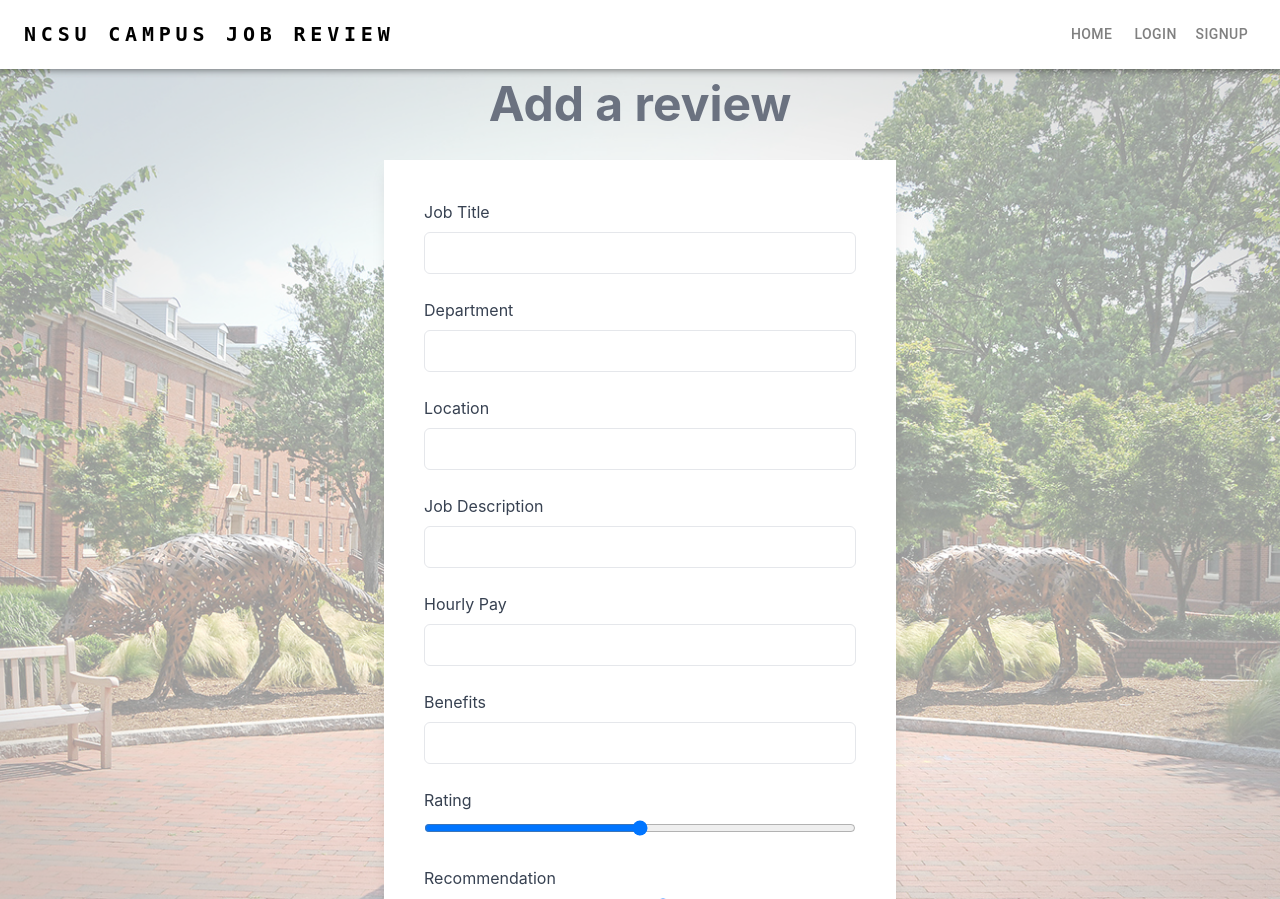
it: AddReview Component › renders and interacts with the Rating slider
The image size is (1280, 899).
Simulate changing the slider value
Set the slider labelled "Rating" to "4" at (744, 828), box top-left (424, 820), bottom-right (856, 836)
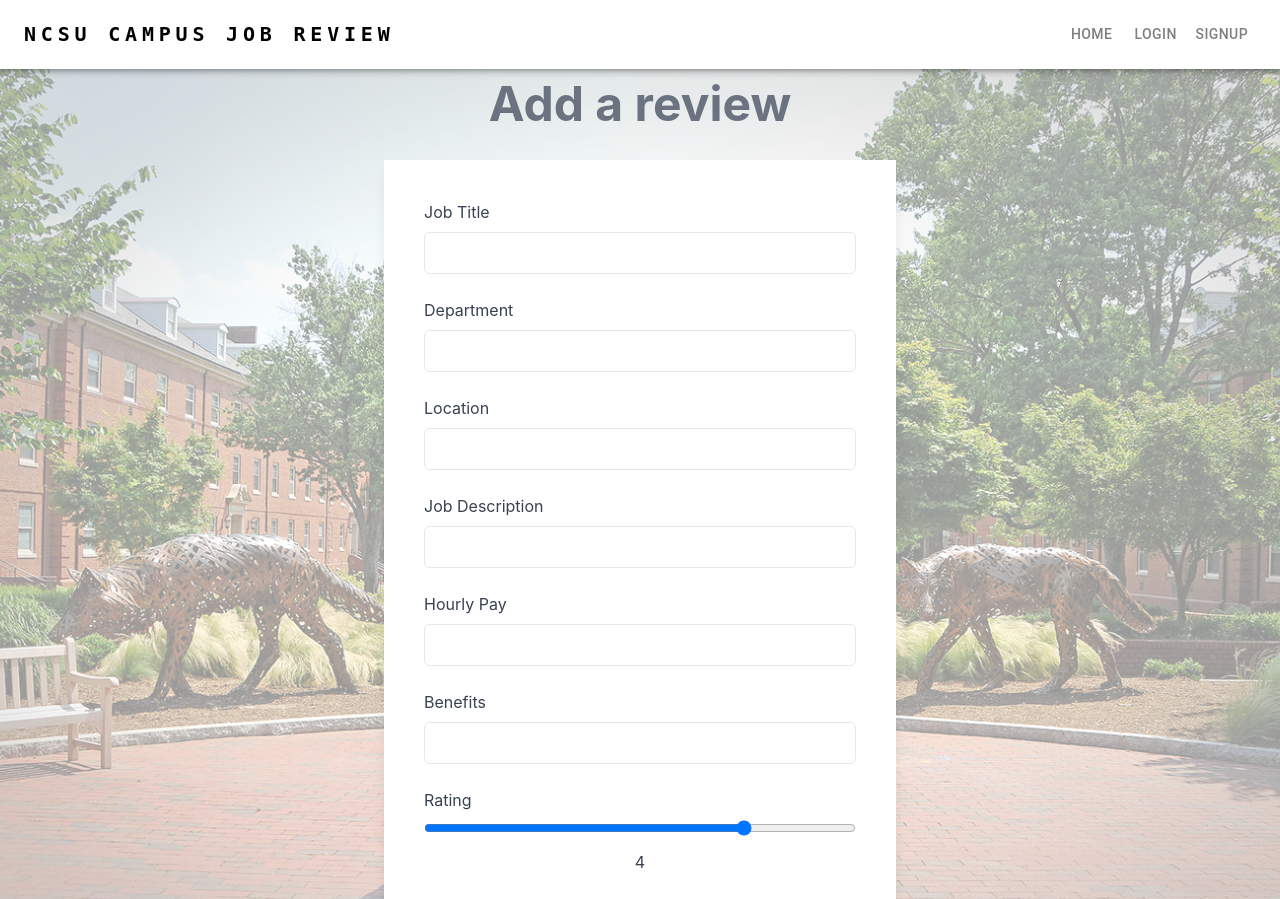
Expected: the text "4" is shown, top-left (635, 852), bottom-right (645, 872)
